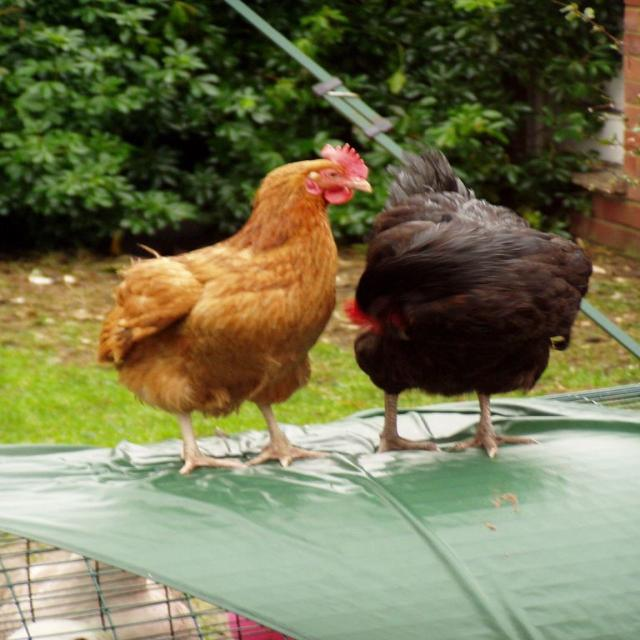Chicken: (111, 128, 370, 476), (336, 137, 604, 458)
